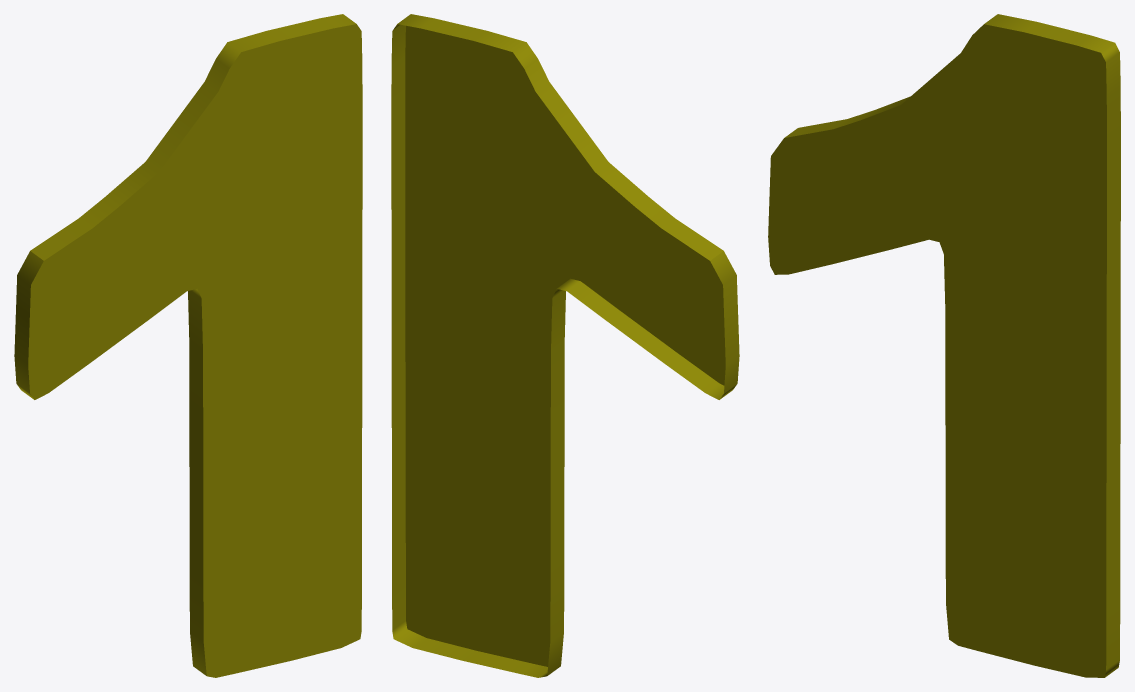
The model's file is Number_1.fbx.
3 views of the same model, side by side, from view 1: azimuth 30°, elevation 25°; view 2: azimuth 150°, elevation 25°; view 3: azimuth 330°, elevation 25° (orthographic).
Parts seen in each view (by area): view 1: Number_1; view 2: Number_1; view 3: Number_1.
Boxes of the visible parts, x1,y1,x2,y2 form: Number_1: (14, 14, 362, 677); Number_1: (391, 14, 739, 677); Number_1: (768, 14, 1120, 677).
Size of the model in its own units: 0.3152 by 0.5608 by 0.0225.
